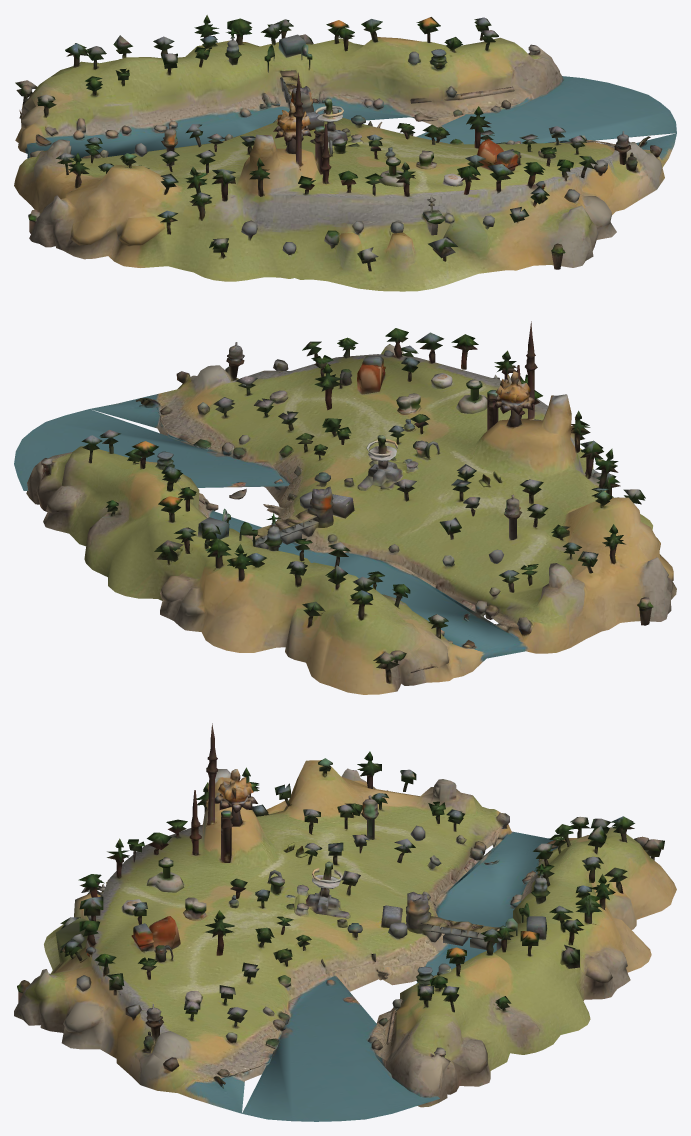
File: VAL_Capital_Environment_River_Wide.glb
The picture shows the model from 3 angles, top to bottom: view 1: azimuth 30°, elevation 25°; view 2: azimuth 150°, elevation 25°; view 3: azimuth 270°, elevation 25°; orthographic projection. The views are drawn at different scales.
Parts seen in each view (by area): view 1: tripo_node_0e48de52-e16e-4058-ad43-9a3fe3c58fad; view 2: tripo_node_0e48de52-e16e-4058-ad43-9a3fe3c58fad; view 3: tripo_node_0e48de52-e16e-4058-ad43-9a3fe3c58fad.
Boxes of the visible parts, <box> form: tripo_node_0e48de52-e16e-4058-ad43-9a3fe3c58fad: <box>14,15,676,291</box>; tripo_node_0e48de52-e16e-4058-ad43-9a3fe3c58fad: <box>14,321,676,694</box>; tripo_node_0e48de52-e16e-4058-ad43-9a3fe3c58fad: <box>14,723,676,1121</box>.
Size of the model in its own units: 0.998 by 0.2754 by 0.8691.
Materials: 1 (1 with a texture image).
